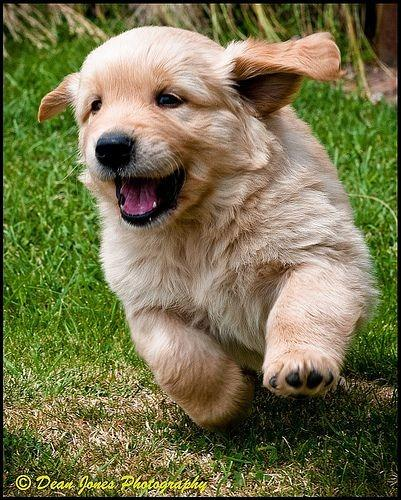puppy-dog: (35, 26, 378, 430)
